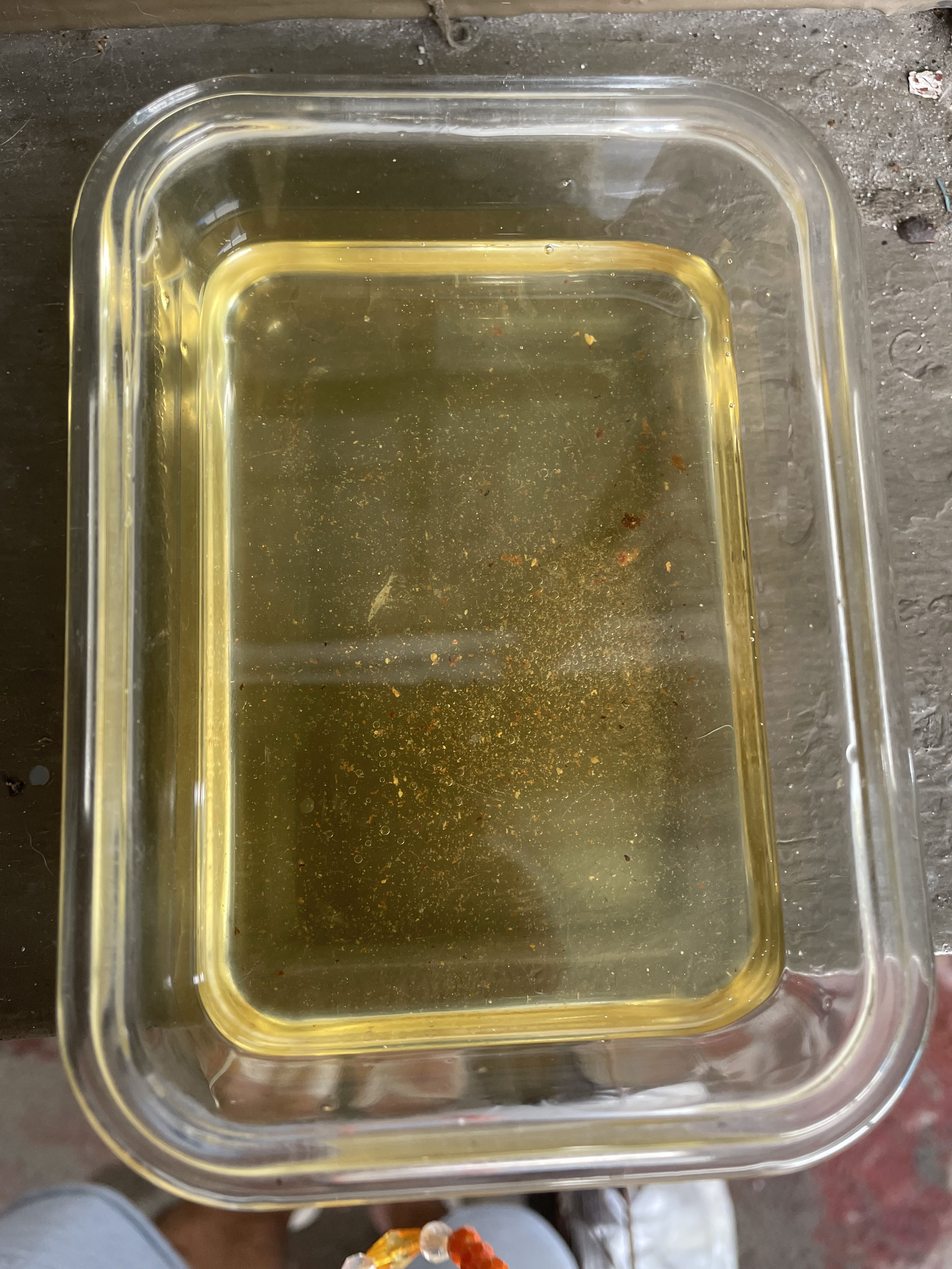reusable: (157, 211, 790, 1054)
